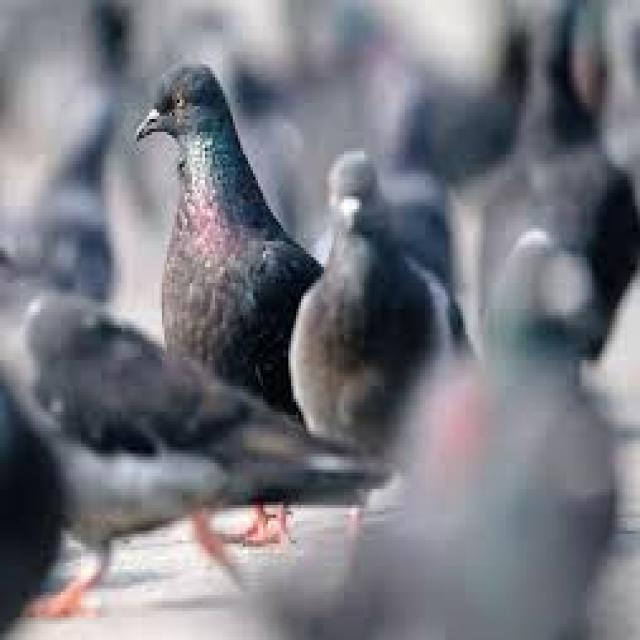pigeon: (136, 47, 344, 434)
